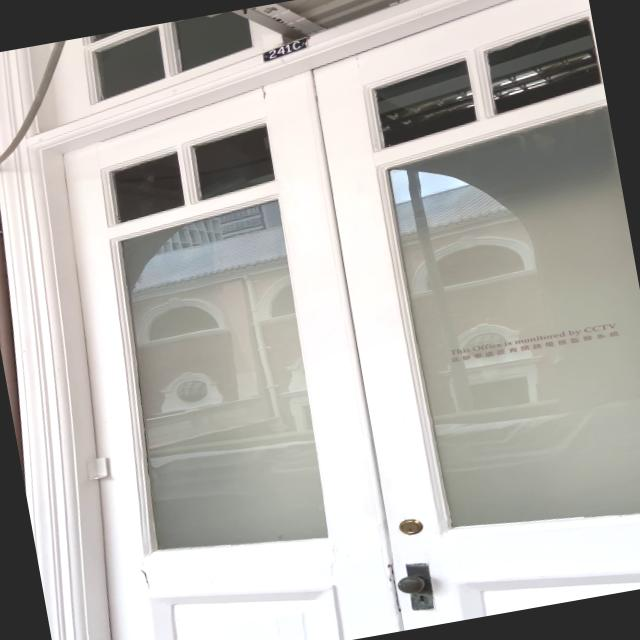room241c: (258, 34, 310, 66)
